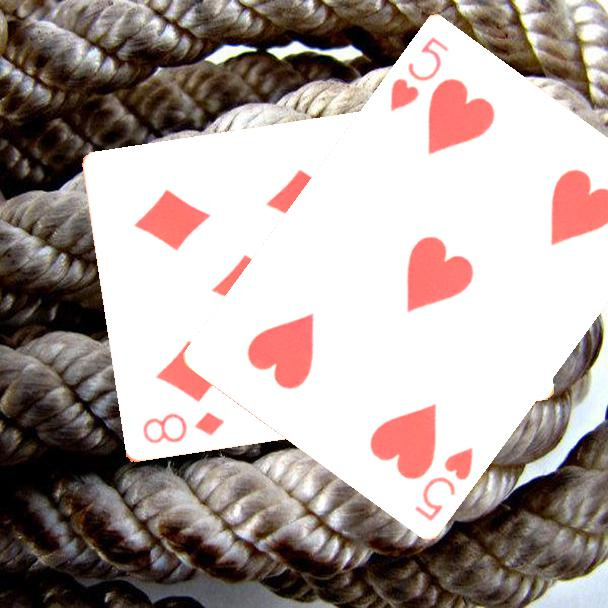d08: (139, 409, 227, 447)
h05: (386, 32, 452, 114), (411, 443, 477, 524)
